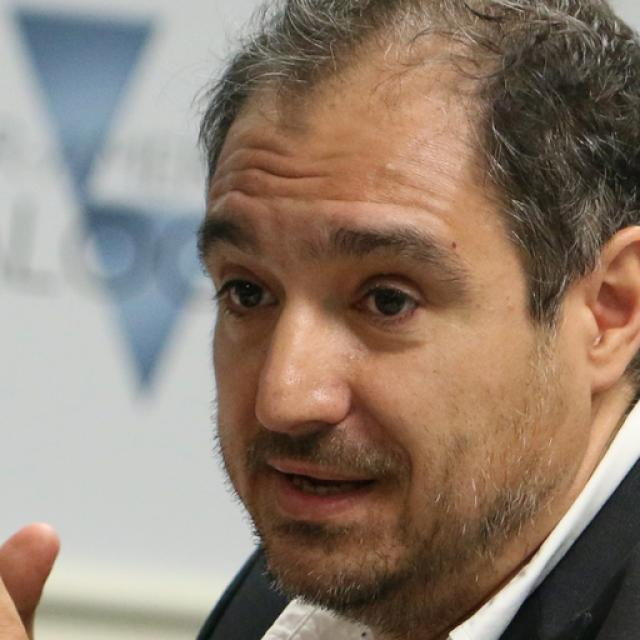surprise: (195, 59, 578, 611)
